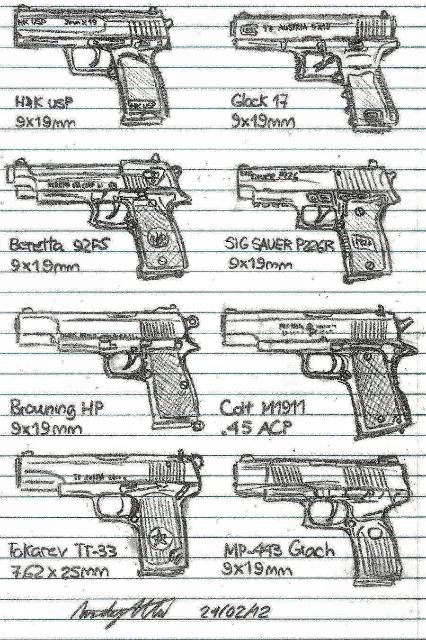pistol: (12, 444, 198, 592), (222, 303, 414, 439), (4, 304, 204, 431), (233, 452, 409, 594), (3, 156, 192, 282), (233, 158, 399, 286), (228, 10, 402, 132), (12, 1, 174, 121)
